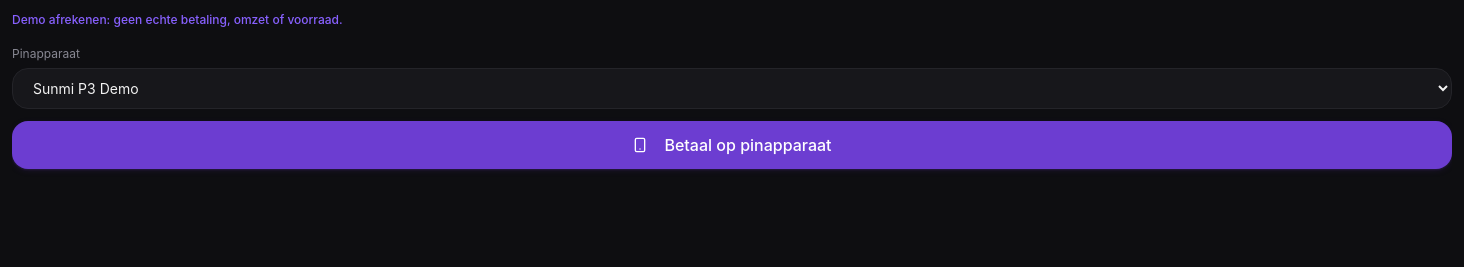
Test: Kassa server flow › success shows 'Betaling geslaagd' with amount, resets automatically; paid order cannot be paid again
Later steps or results of the test are not shown.
Click the button "Betaal op pinapparaat".
click(732, 145)  # box [12,121,1452,169]
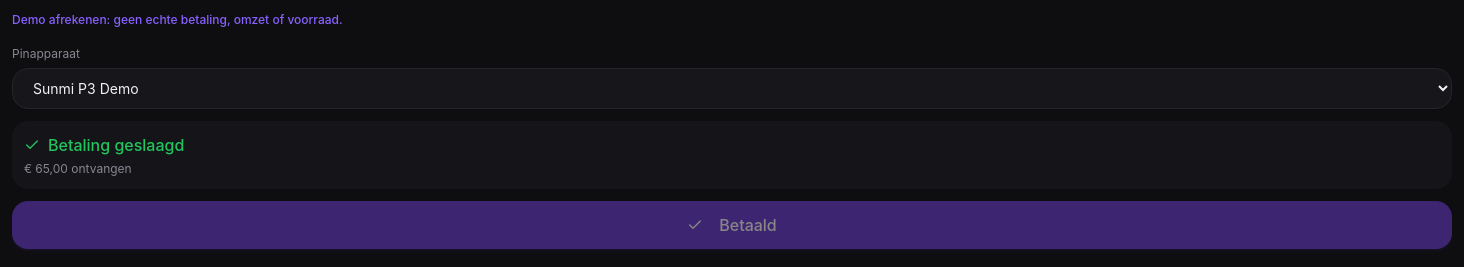
Now the text "Betaling geslaagd" is shown, box [48,133,184,157]
Now the text "€ 65,00 ontvangen" is shown, box [24,161,132,176]
Now the button "Betaald" is disabled, box [12,201,1452,249]
